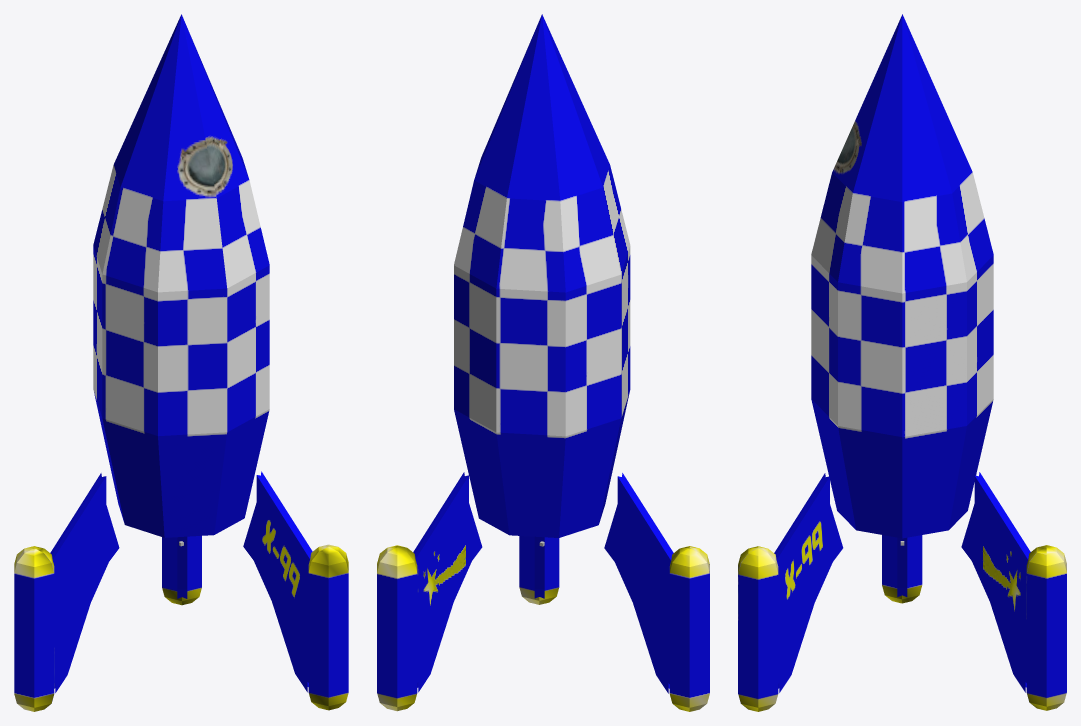
File: rocket_2.obj
3 renders of one model, left to right at view 1: azimuth 30°, elevation 25°; view 2: azimuth 150°, elevation 25°; view 3: azimuth 270°, elevation 25°, orthographic.
Visible parts, largest first — view 1: rocket; view 2: rocket; view 3: rocket.
Boxes of the visible parts, left/top/right/bottom form: rocket: left=14, top=14, right=348, bottom=711; rocket: left=377, top=14, right=709, bottom=711; rocket: left=738, top=14, right=1066, bottom=711.
Size of the model in its own units: 165 by 396 by 179.
Materials: 2 (1 with a texture image).
